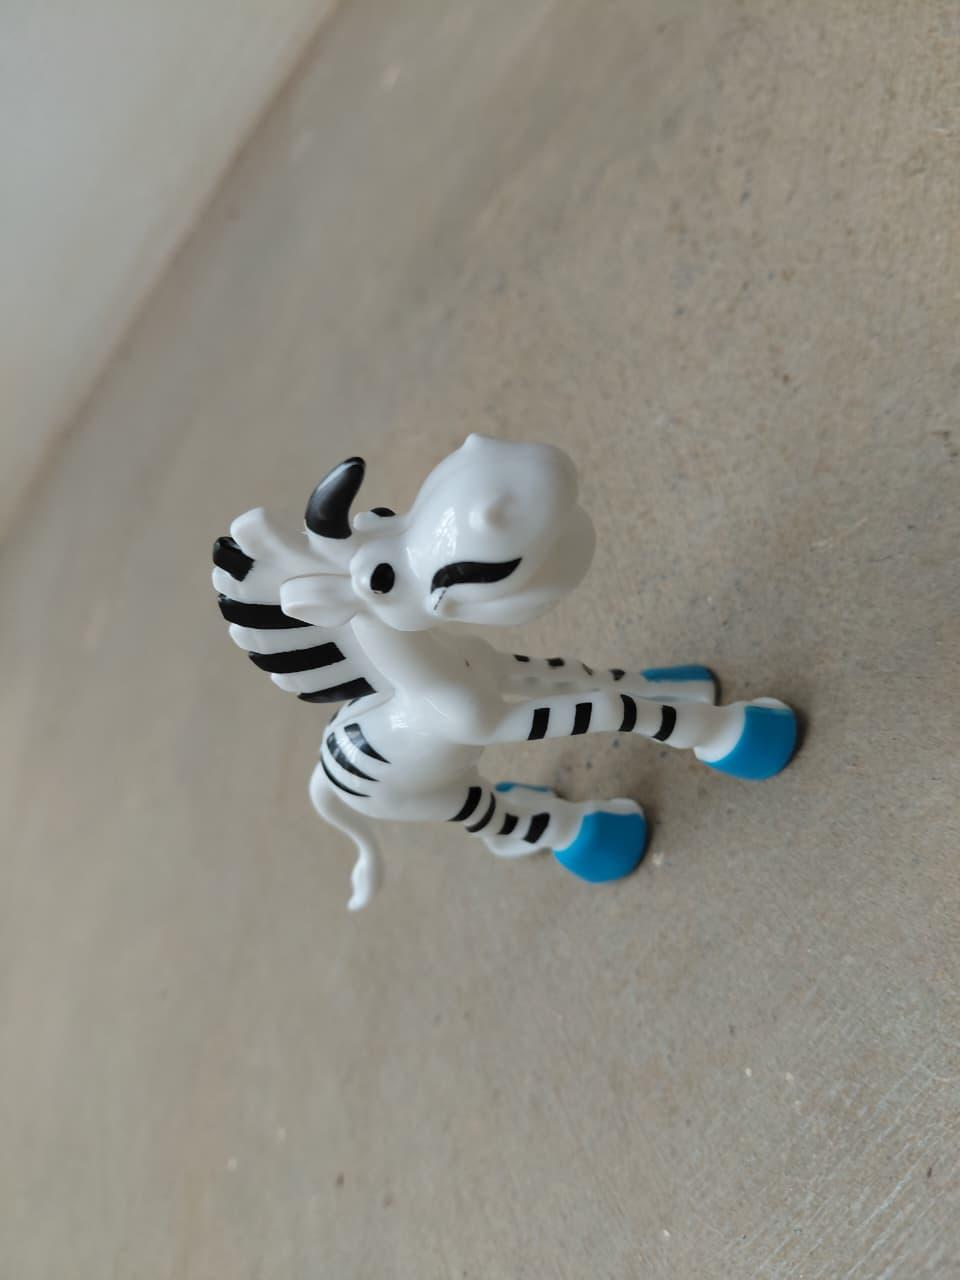zebra: (170, 418, 822, 915)
